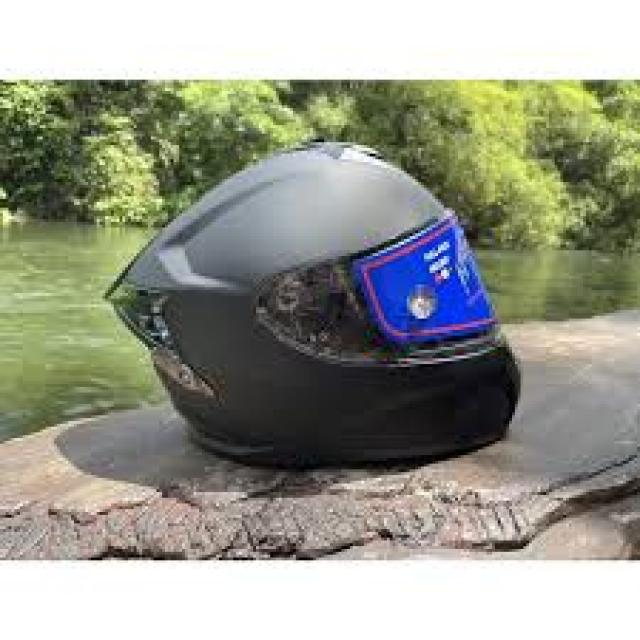Helmet: (109, 146, 520, 464)
